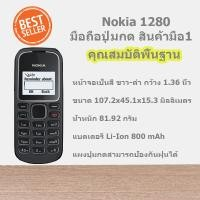Phone: (13, 47, 64, 165)
